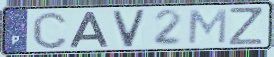2: (153, 8, 184, 47)
A: (68, 11, 111, 49)
C: (31, 10, 69, 50)
M: (186, 8, 229, 46)
V: (111, 8, 148, 49)
Z: (228, 6, 264, 47)
